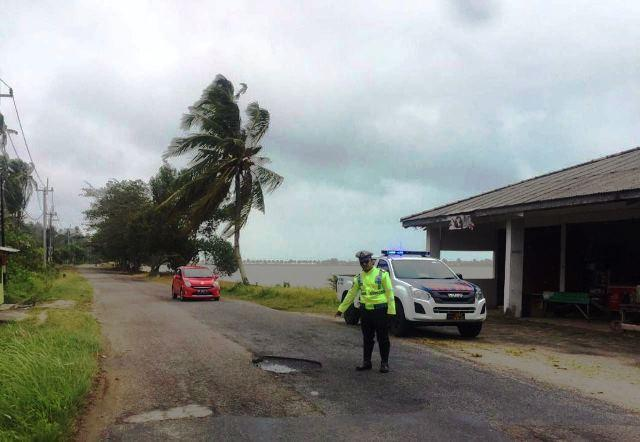Pothole: (214, 319, 354, 387), (95, 399, 258, 433), (515, 405, 633, 442)
